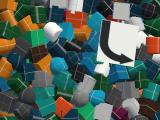Left: (97, 19, 139, 67)
